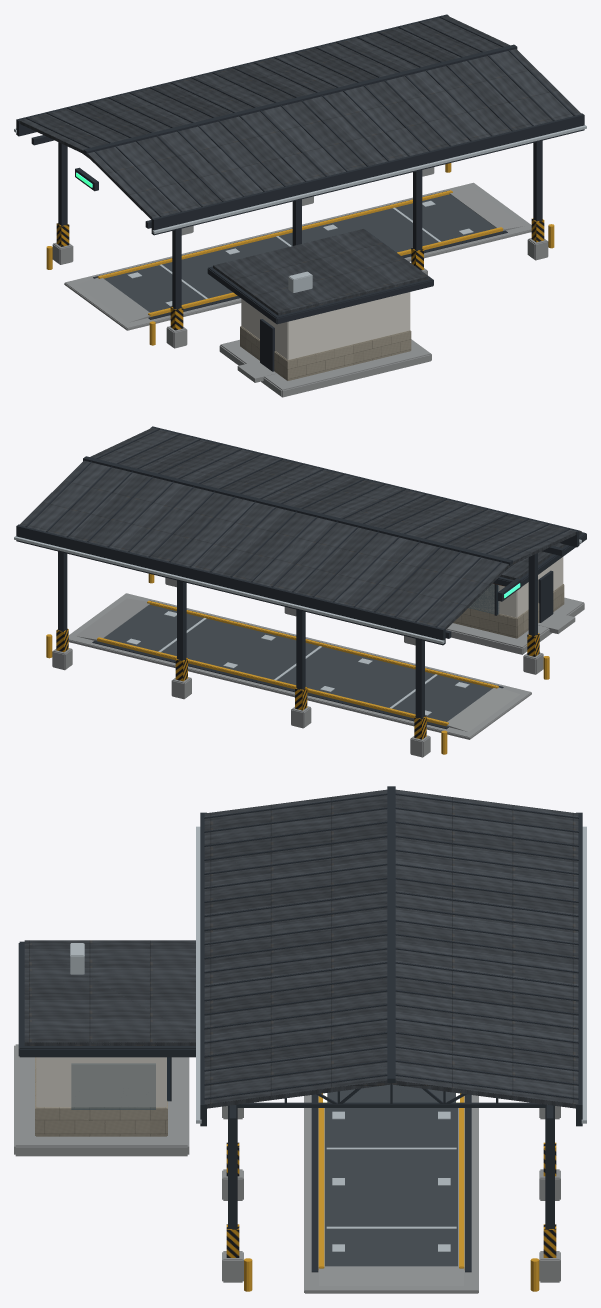
File: weighbridge.glb
The picture shows the model from 3 angles, top to bottom: view 1: azimuth 30°, elevation 25°; view 2: azimuth 150°, elevation 25°; view 3: azimuth 270°, elevation 25°; orthographic projection. The views are drawn at different scales.
Visible parts, largest first — view 1: Weigh_RoofSlate, Weigh_CanopySlate, Weigh_WeighConc, Weigh_ScaleDeckSteel, Weigh_ScaleWall, Weigh_AshlarStone, Weigh_GalvMetal, Weigh_SafetyYellow, Weigh_HazardStripe; view 2: Weigh_RoofSlate, Weigh_CanopySlate, Weigh_ScaleDeckSteel, Weigh_WeighConc, Weigh_SafetyYellow, Weigh_GalvMetal, Weigh_AshlarStone, Weigh_ScaleWall, Weigh_HazardStripe, Weigh_ClearGlass; view 3: Weigh_RoofSlate, Weigh_CanopySlate, Weigh_ScaleDeckSteel, Weigh_WeighConc, Weigh_ScaleWall, Weigh_GalvMetal, Weigh_ClearGlass, Weigh_AshlarStone, Weigh_SafetyYellow, Weigh_HazardStripe.
Part boxes in pixels (x1,y1,x2,y2): Weigh_RoofSlate: (19,15,581,315); Weigh_CanopySlate: (16,14,584,371); Weigh_WeighConc: (52,167,548,397); Weigh_ScaleDeckSteel: (104,194,496,312); Weigh_ScaleWall: (241,292,410,359); Weigh_AshlarStone: (240,326,411,380); Weigh_GalvMetal: (14,125,586,306); Weigh_SafetyYellow: (46,163,554,345); Weigh_HazardStripe: (56,218,544,330); Weigh_RoofSlate: (19,428,581,629); Weigh_CanopySlate: (16,426,586,729); Weigh_ScaleDeckSteel: (104,604,492,721); Weigh_WeighConc: (52,577,584,757); Weigh_SafetyYellow: (46,573,549,754); Weigh_GalvMetal: (14,536,581,715); Weigh_AshlarStone: (453,584,564,638); Weigh_ScaleWall: (470,557,563,617); Weigh_HazardStripe: (56,628,539,739); Weigh_ClearGlass: (468,583,499,614); Weigh_RoofSlate: (24,789,578,1108); Weigh_CanopySlate: (18,786,582,1272); Weigh_ScaleDeckSteel: (325,1084,457,1266); Weigh_WeighConc: (14,1044,560,1293); Weigh_ScaleWall: (36,1057,166,1107); Weigh_GalvMetal: (70,826,586,1251); Weigh_ClearGlass: (71,1057,169,1109); Weigh_AshlarStone: (35,1057,167,1136); Weigh_SafetyYellow: (244,1093,539,1291); Weigh_HazardStripe: (226,1142,556,1257).
Bounding box in the file's own units: 23.02 × 8.29 × 18.97.
14 materials, 4 textured.
